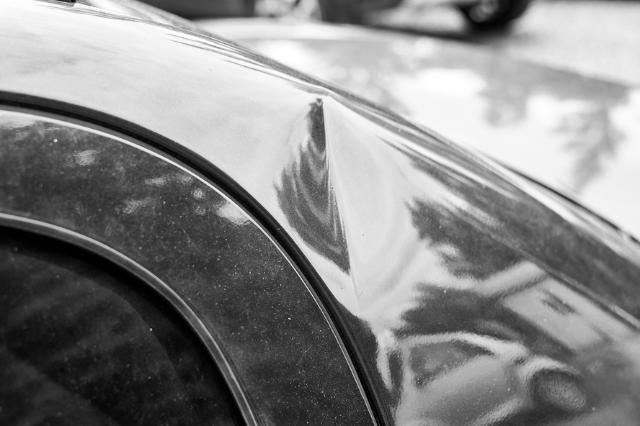Fender: (212, 67, 640, 426)
